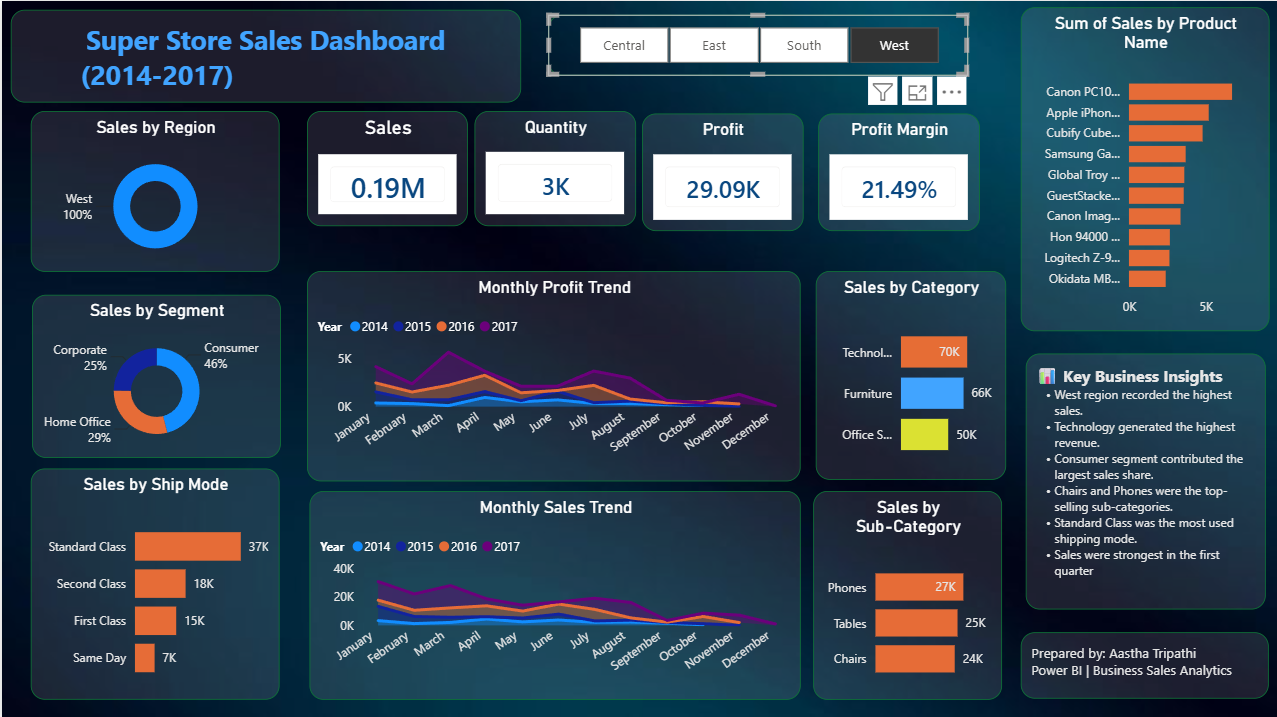

The page's visual inventory and layout, read from the dashboard file:
{"tool":"powerbi","page":{"name":"Page 1","canvas":[1280,720],"ordinal":0},"visuals":[{"type":"clusteredBarChart","title":"Sales by Category","fields":{"Category":["Sample - Superstore.Category"],"Y":["Sum(Sample - Superstore.Sales)"]},"box":[813.8,270,190,208.8],"z":0},{"type":"clusteredBarChart","title":"Sales by Sub-Category","fields":{"Category":["Sample - Superstore.Sub-Category"],"Y":["Sum(Sample - Superstore.Sales)"]},"box":[811.2,490,188.8,208.8],"z":1000},{"type":"clusteredBarChart","title":"Sales by Ship Mode","fields":{"Category":["Sample - Superstore.Ship Mode"],"Y":["Sum(Sample - Superstore.Sales)"]},"box":[28.8,467.5,248.8,231.2],"z":2000},{"type":"stackedAreaChart","title":"Monthly Sales Trend","fields":{"Y":["Sum(Sample - Superstore.Sales)"],"Category":["Sample - Superstore.Order Date.Variation.Date Hierarchy.Month","Sample - Superstore.Order Date.Variation.Date Hierarchy.Day"],"Series":["Sample - Superstore.Order Date.Variation.Date Hierarchy.Year"]},"box":[307.5,490,491.2,208.8],"z":3000},{"type":"stackedAreaChart","title":"Monthly Profit Trend","fields":{"Category":["Sample - Superstore.Order Date.Variation.Date Hierarchy.Month","Sample - Superstore.Order Date.Variation.Date Hierarchy.Day"],"Series":["Sample - Superstore.Order Date.Variation.Date Hierarchy.Year"],"Y":["Sum(Sample - Superstore.Profit)"]},"box":[305,270,493.8,210],"z":4000},{"type":"donutChart","title":"Sales by Segment","fields":{"Category":["Sample - Superstore.Segment"],"Y":["Sum(Sample - Superstore.Sales)"]},"box":[30,293.8,248.9,163.3],"z":5000},{"type":"donutChart","title":"Sales by Region","fields":{"Category":["Sample - Superstore.Region"],"Y":["Sum(Sample - Superstore.Sales)"]},"box":[28.8,110,248.9,161.1],"z":6000},{"type":"slicer","fields":{"Values":["Sample - Superstore.Region"]},"box":[546.2,13.8,420,61.1],"z":7000},{"type":"textbox","box":[8.8,8.8,510,92.5],"z":8000},{"type":"cardVisual","title":"Sales","fields":{"Data":["Sum(Sample - Superstore.Sales)"]},"box":[305,110,161.1,115.6],"z":9000},{"type":"cardVisual","title":"Quantity","fields":{"Data":["Sum(Sample - Superstore.Quantity)"]},"box":[472.5,110,161.2,115],"z":10000},{"type":"cardVisual","title":"Profit","fields":{"Data":["Sum(Sample - Superstore.Profit)"]},"box":[640,112,161.2,117.5],"z":11000},{"type":"cardVisual","title":"Profit Margin","fields":{"Data":["Avg(Sample - Superstore.Profit Margin)"]},"box":[816,112,161.2,117.5],"z":12000},{"type":"barChart","fields":{"Category":["Sample - Superstore.Product Name"],"Y":["Sum(Sample - Superstore.Sales)"]},"box":[1018.6,5.7,248.8,323.8],"z":13000},{"type":"textbox","box":[1024,352,240,256],"z":14000},{"type":"textbox","box":[1018.3,631.7,248.3,66.7],"z":15000}]}

Visuals, with their boxes in screenshot pixels (x1, y1, x2, y2), scaled from the page's 1280x720 canvas onto the 1277x717 screenshot:
"Sales by Category" clusteredBarChart: bbox=[812, 269, 1001, 477]
"Sales by Sub-Category" clusteredBarChart: bbox=[809, 488, 998, 696]
"Sales by Ship Mode" clusteredBarChart: bbox=[29, 466, 277, 696]
"Monthly Sales Trend" stackedAreaChart: bbox=[307, 488, 797, 696]
"Monthly Profit Trend" stackedAreaChart: bbox=[304, 269, 797, 478]
"Sales by Segment" donutChart: bbox=[30, 293, 278, 455]
"Sales by Region" donutChart: bbox=[29, 110, 277, 270]
slicer - Sample - Superstore.Region: bbox=[545, 14, 964, 75]
textbox: bbox=[9, 9, 518, 101]
"Sales" cardVisual: bbox=[304, 110, 465, 225]
"Quantity" cardVisual: bbox=[471, 110, 632, 224]
"Profit" cardVisual: bbox=[638, 112, 799, 229]
"Profit Margin" cardVisual: bbox=[814, 112, 975, 229]
barChart - Sample - Superstore.Product Name x Sum(Sample - Superstore.Sales): bbox=[1016, 6, 1264, 328]
textbox: bbox=[1022, 351, 1261, 605]
textbox: bbox=[1016, 629, 1264, 695]
